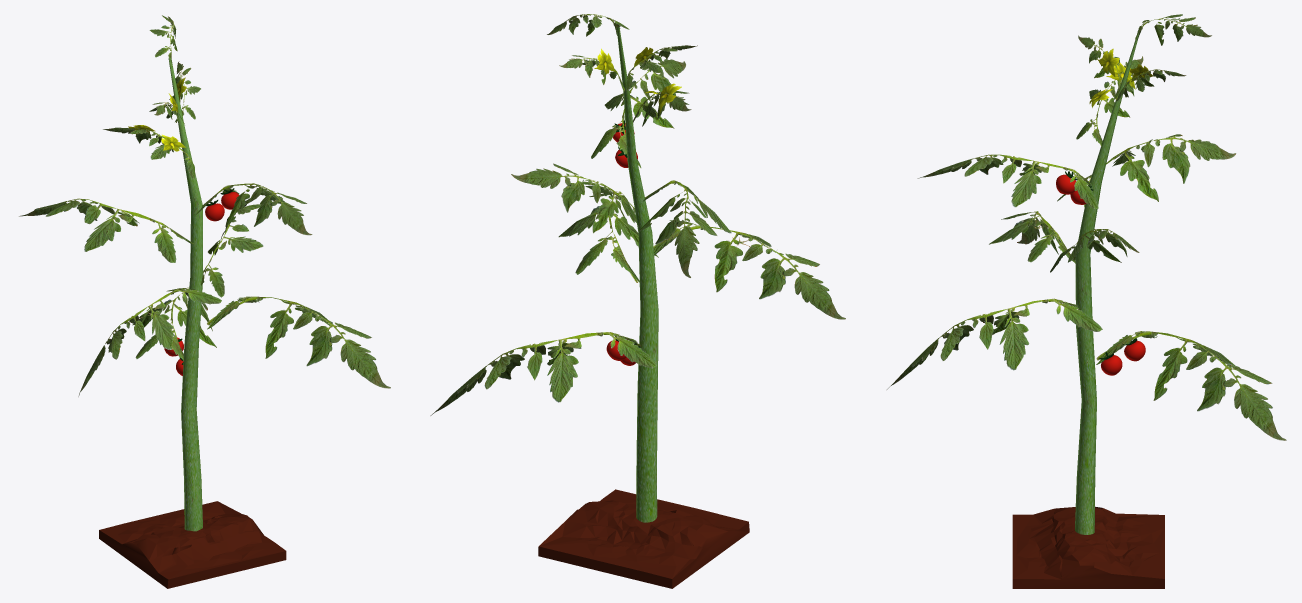
Rendered from bedeng_tomat_2.obj.
3 renders of one model, left to right at view 1: azimuth 30°, elevation 25°; view 2: azimuth 150°, elevation 25°; view 3: azimuth 270°, elevation 25°, orthographic. The views are drawn at different scales.
Visible parts, largest first — view 1: Pohon_Tomat_2_tomato-plant.005, PP_Meadow_Path_05_Scene.1042; view 2: Pohon_Tomat_2_tomato-plant.005, PP_Meadow_Path_05_Scene.1042; view 3: Pohon_Tomat_2_tomato-plant.005, PP_Meadow_Path_05_Scene.1042.
Boxes of the visible parts, left/top/right/bottom form: Pohon_Tomat_2_tomato-plant.005: left=19, top=15, right=390, bottom=531; PP_Meadow_Path_05_Scene.1042: left=99, top=501, right=286, bottom=588; Pohon_Tomat_2_tomato-plant.005: left=430, top=14, right=845, bottom=522; PP_Meadow_Path_05_Scene.1042: left=538, top=489, right=749, bottom=588; Pohon_Tomat_2_tomato-plant.005: left=887, top=14, right=1286, bottom=534; PP_Meadow_Path_05_Scene.1042: left=1012, top=506, right=1164, bottom=588.
Bounding box in the file's own units: 2.26 × 3.98 × 2.69.
